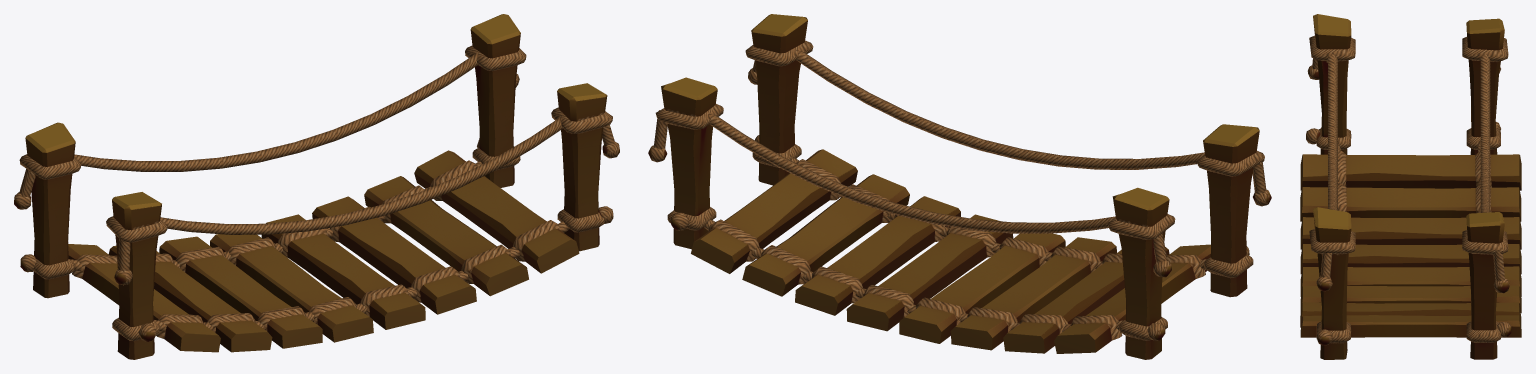
File: Bridge.fbx
3 views of the same model, side by side, from view 1: azimuth 30°, elevation 25°; view 2: azimuth 150°, elevation 25°; view 3: azimuth 270°, elevation 25° (orthographic). The views are drawn at different scales.
Parts seen in each view (by area): view 1: Bridge; view 2: Bridge; view 3: Bridge.
Part boxes in pixels (x1,y1,x2,y2): Bridge: (14, 14, 619, 359); Bridge: (648, 14, 1271, 359); Bridge: (1300, 14, 1521, 359).
Size of the model in its own units: 26164 by 8723 by 11070.
Materials: 1 (1 with a texture image).
